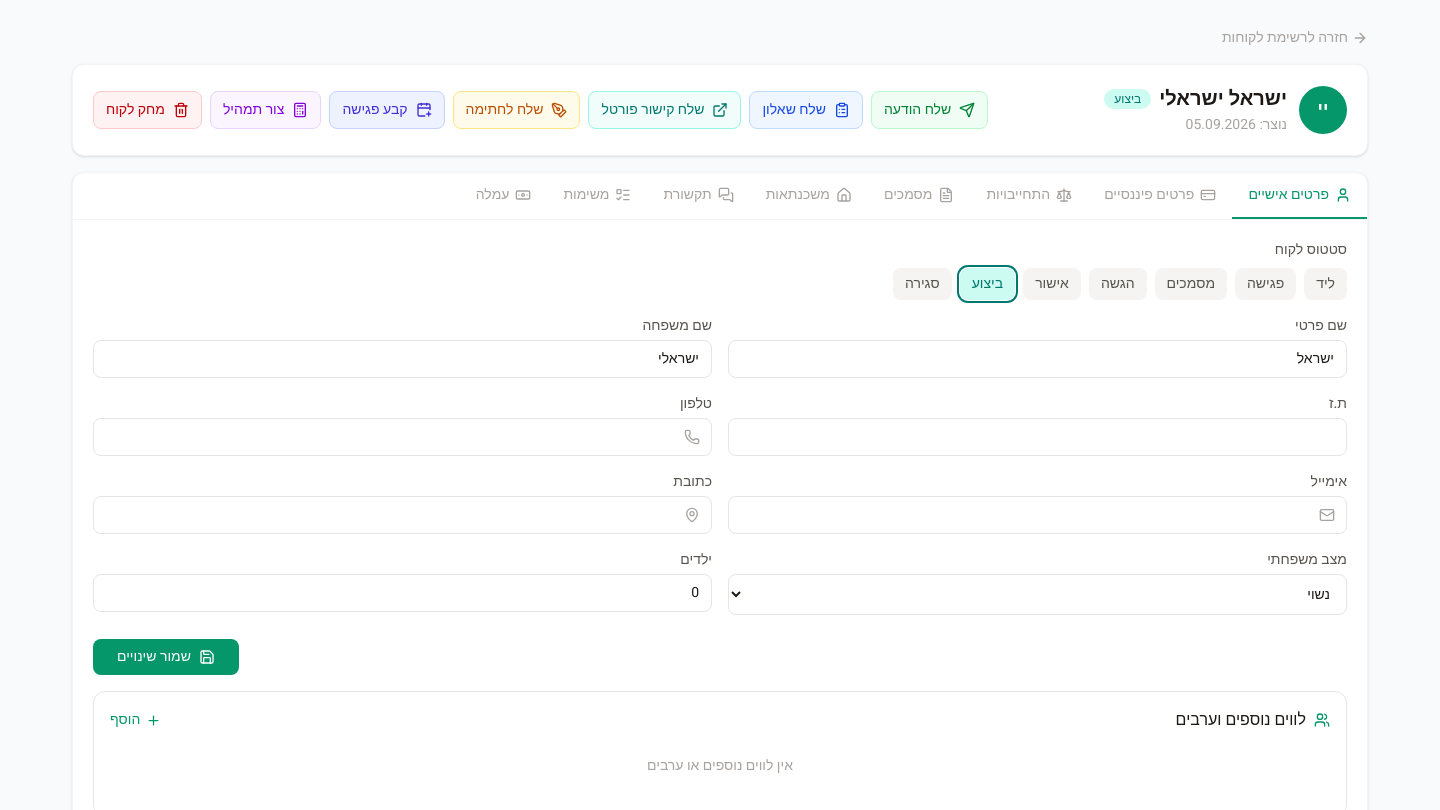
Scenario: closing a case › warns before closing while the insurance is not issued
The width and height of the screenshot is (1440, 810).
Click the button "סגירה".
click(922, 284)  # box [893, 268, 952, 300]
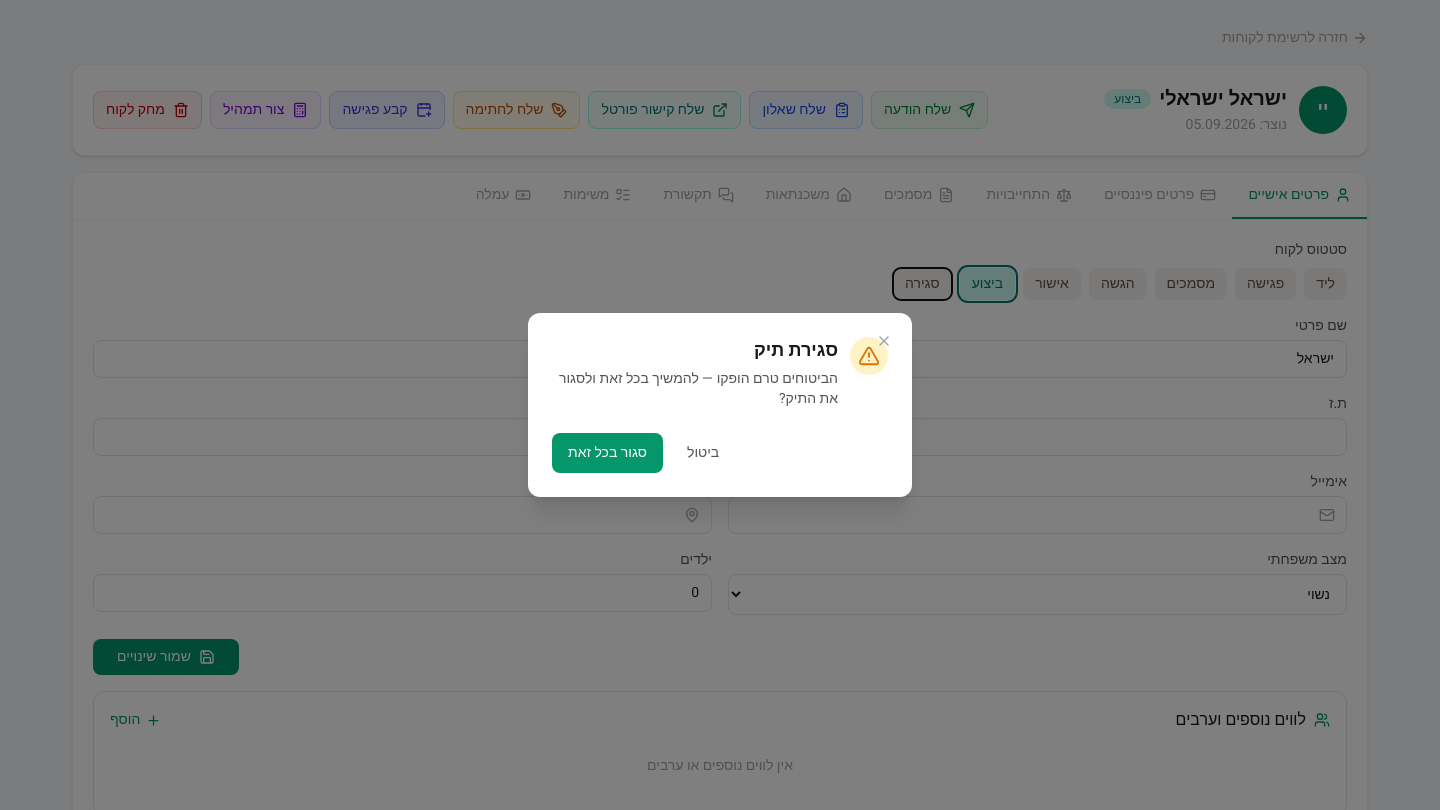
Now the text "הביטוחים טרם הופקו — להמשיך בכל זאת ולסגור את התיק?" is shown, box [552, 369, 838, 409]
